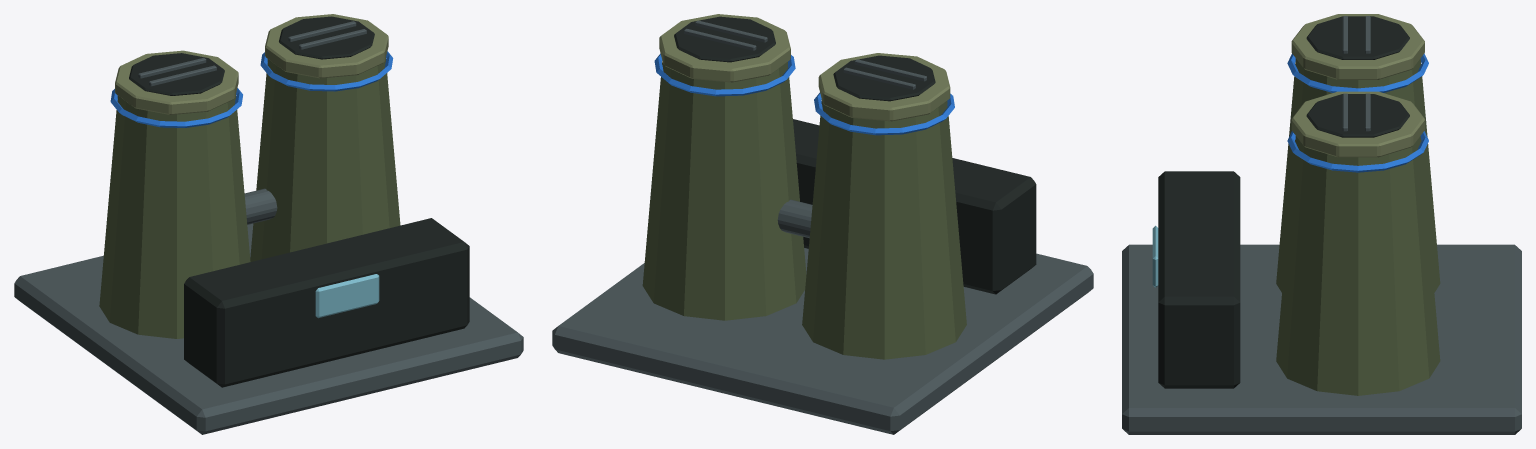
Rendered from h_power.glb.
3 views of the same model, side by side, from view 1: azimuth 30°, elevation 25°; view 2: azimuth 150°, elevation 25°; view 3: azimuth 270°, elevation 25° (orthographic). The views are drawn at different scales.
Parts seen in each view (by area): view 1: Power plant; view 2: Power plant; view 3: Power plant.
Boxes of the visible parts, box(x1,y1,x2,y2) form: Power plant: box(14, 14, 523, 434); Power plant: box(552, 14, 1093, 434); Power plant: box(1122, 14, 1521, 434).
Size of the model in its own units: 3.75 by 2.92 by 3.75.
